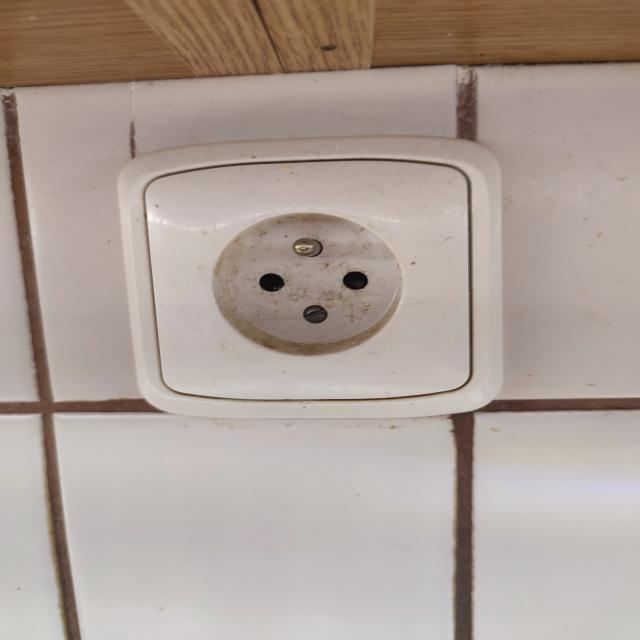house plug: (188, 190, 428, 369)
